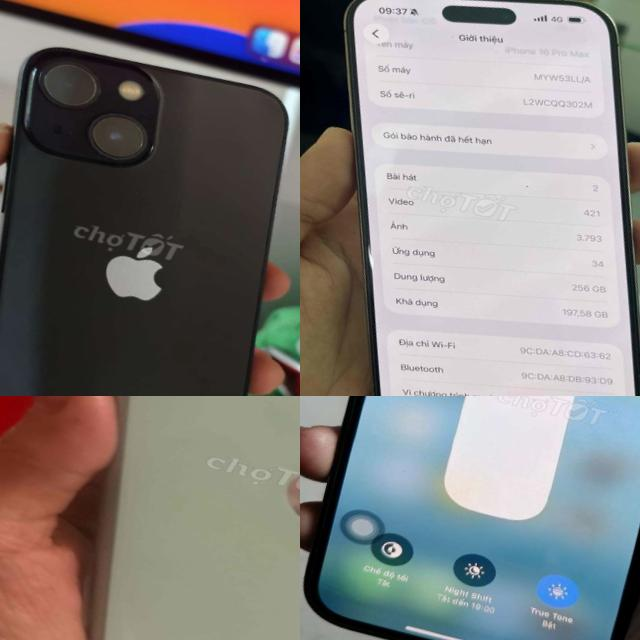gen_11: (22, 396, 300, 640)
gen_12_13: (0, 29, 300, 396), (300, 396, 640, 640)
gen_16: (300, 0, 640, 396)
